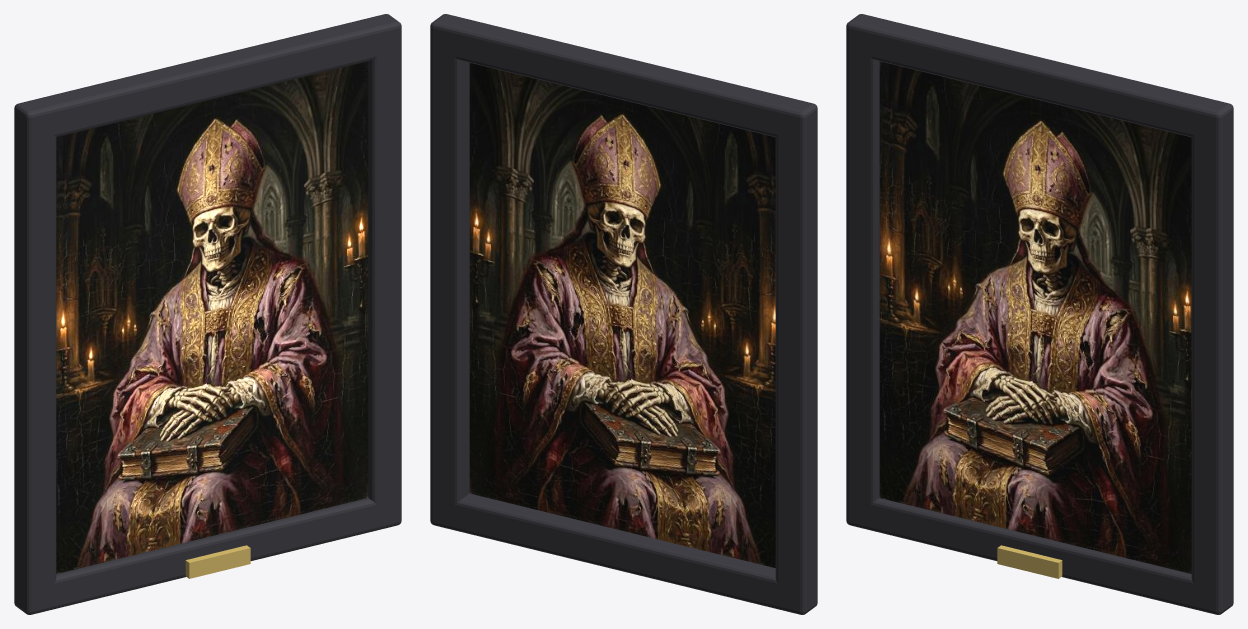
Rendered from art_skeletal_bishop.glb.
3 renders of one model, left to right at view 1: azimuth 30°, elevation 25°; view 2: azimuth 150°, elevation 25°; view 3: azimuth 330°, elevation 25°, orthographic.
Parts seen in each view (by area): view 1: GD_art_skeletal_bishop__m0, GD_art_skeletal_bishop__m1, GD_art_skeletal_bishop__m2; view 2: GD_art_skeletal_bishop__m0, GD_art_skeletal_bishop__m1; view 3: GD_art_skeletal_bishop__m0, GD_art_skeletal_bishop__m1, GD_art_skeletal_bishop__m2.
Part boxes in pixels (left/top/right/bottom): GD_art_skeletal_bishop__m0: left=56, top=61, right=368, bottom=573; GD_art_skeletal_bishop__m1: left=14, top=14, right=401, bottom=614; GD_art_skeletal_bishop__m2: left=185, top=545, right=250, bottom=578; GD_art_skeletal_bishop__m0: left=469, top=63, right=775, bottom=567; GD_art_skeletal_bishop__m1: left=430, top=14, right=817, bottom=614; GD_art_skeletal_bishop__m0: left=879, top=61, right=1191, bottom=573; GD_art_skeletal_bishop__m1: left=846, top=14, right=1233, bottom=614; GD_art_skeletal_bishop__m2: left=997, top=545, right=1062, bottom=578.
Size of the model in its own units: 0.86 by 1.1 by 0.0775.
3 materials, 1 textured.
